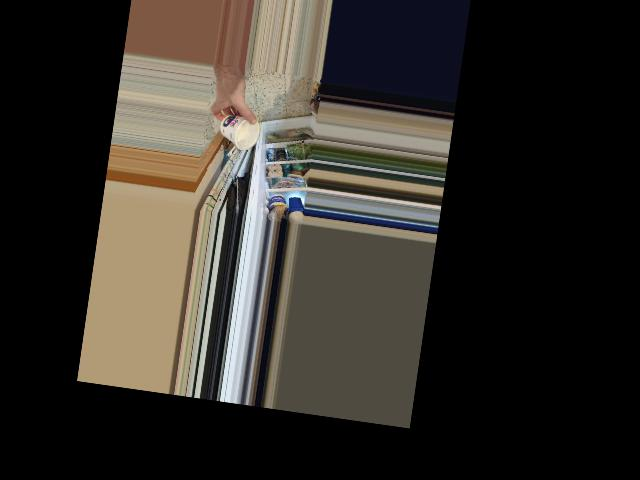cotage: (218, 113, 259, 155)
